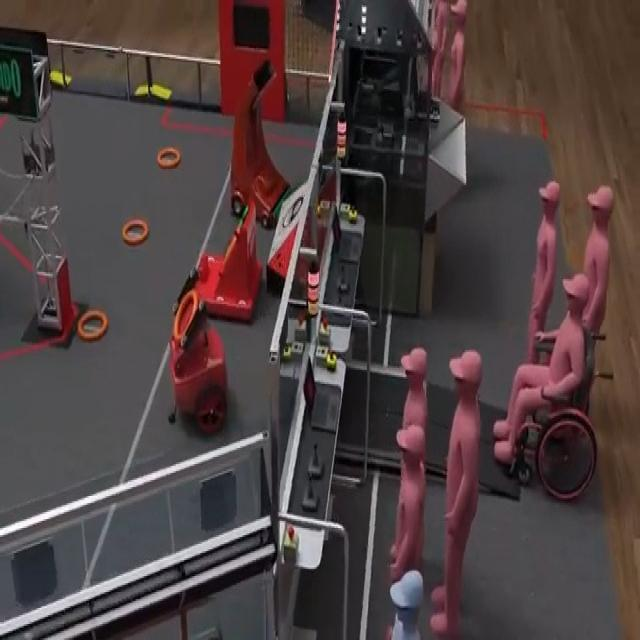notes: (75, 308, 108, 346), (121, 217, 150, 248), (156, 146, 184, 172)
